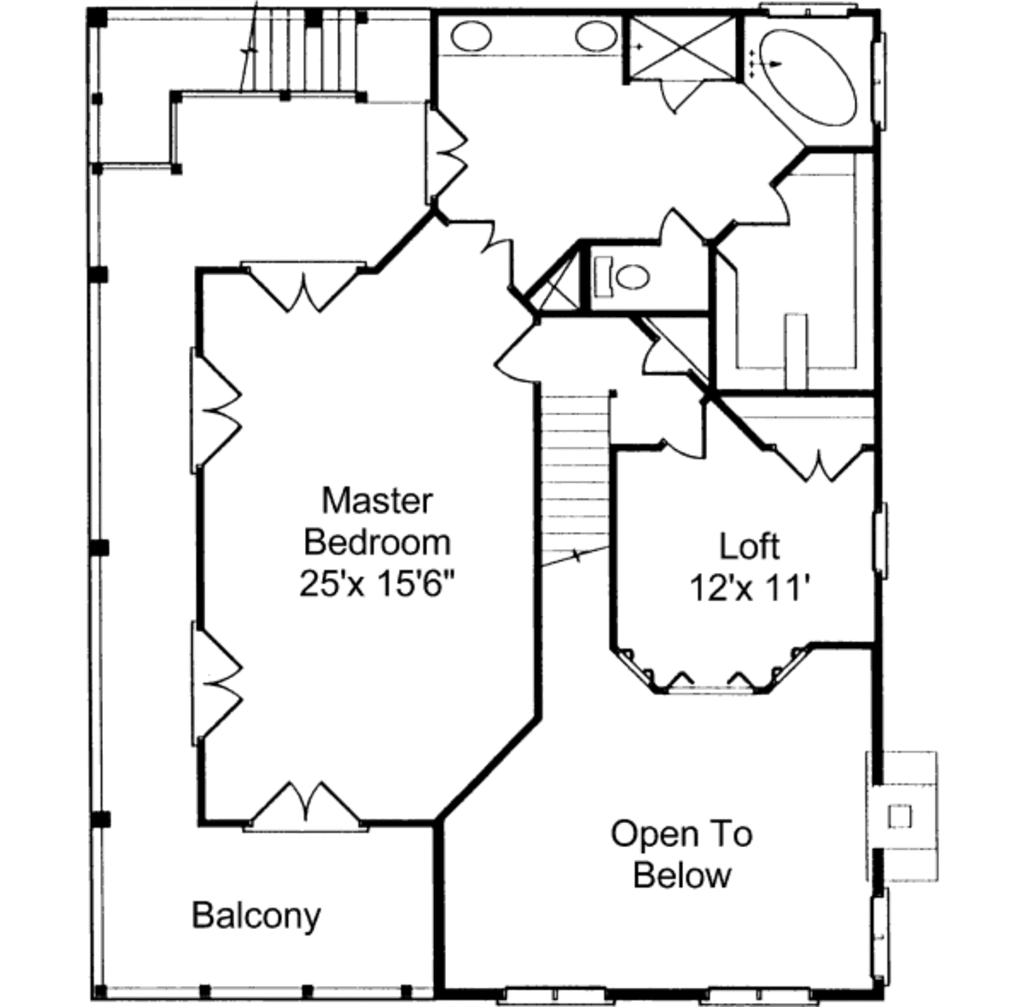door: (184, 350, 249, 473), (243, 775, 366, 839), (188, 622, 243, 751), (240, 264, 366, 314), (416, 108, 474, 215), (439, 215, 523, 287), (772, 439, 860, 485), (733, 183, 796, 238), (494, 321, 534, 387), (634, 338, 686, 381)
large_sink: (590, 253, 649, 305)
small_sink: (429, 14, 623, 64)
stairs: (530, 383, 612, 577), (221, 11, 368, 102)
tub: (753, 23, 862, 145)
windows: (483, 980, 625, 1007), (866, 886, 899, 992), (867, 35, 895, 132), (872, 500, 894, 582)
